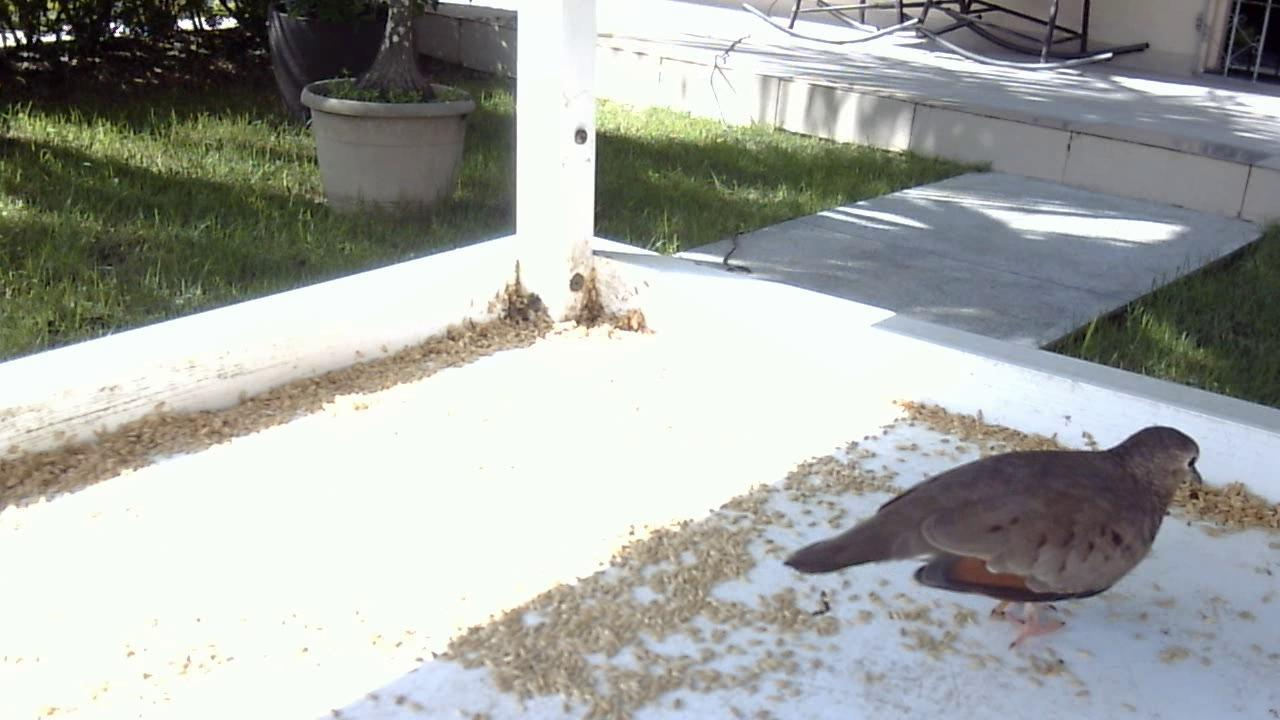rolinha: (780, 397, 1210, 661)
